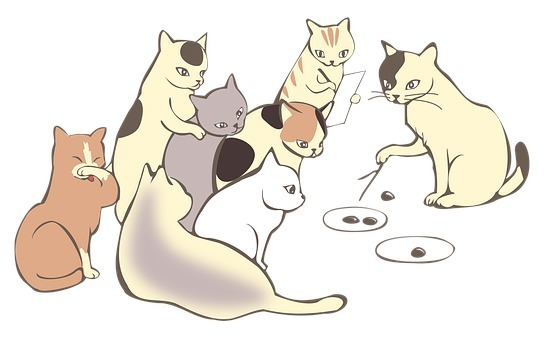cat: (111, 155, 359, 332), (362, 29, 530, 211), (100, 14, 210, 215), (7, 121, 121, 298), (155, 81, 249, 188), (274, 9, 359, 118), (222, 96, 339, 172)
